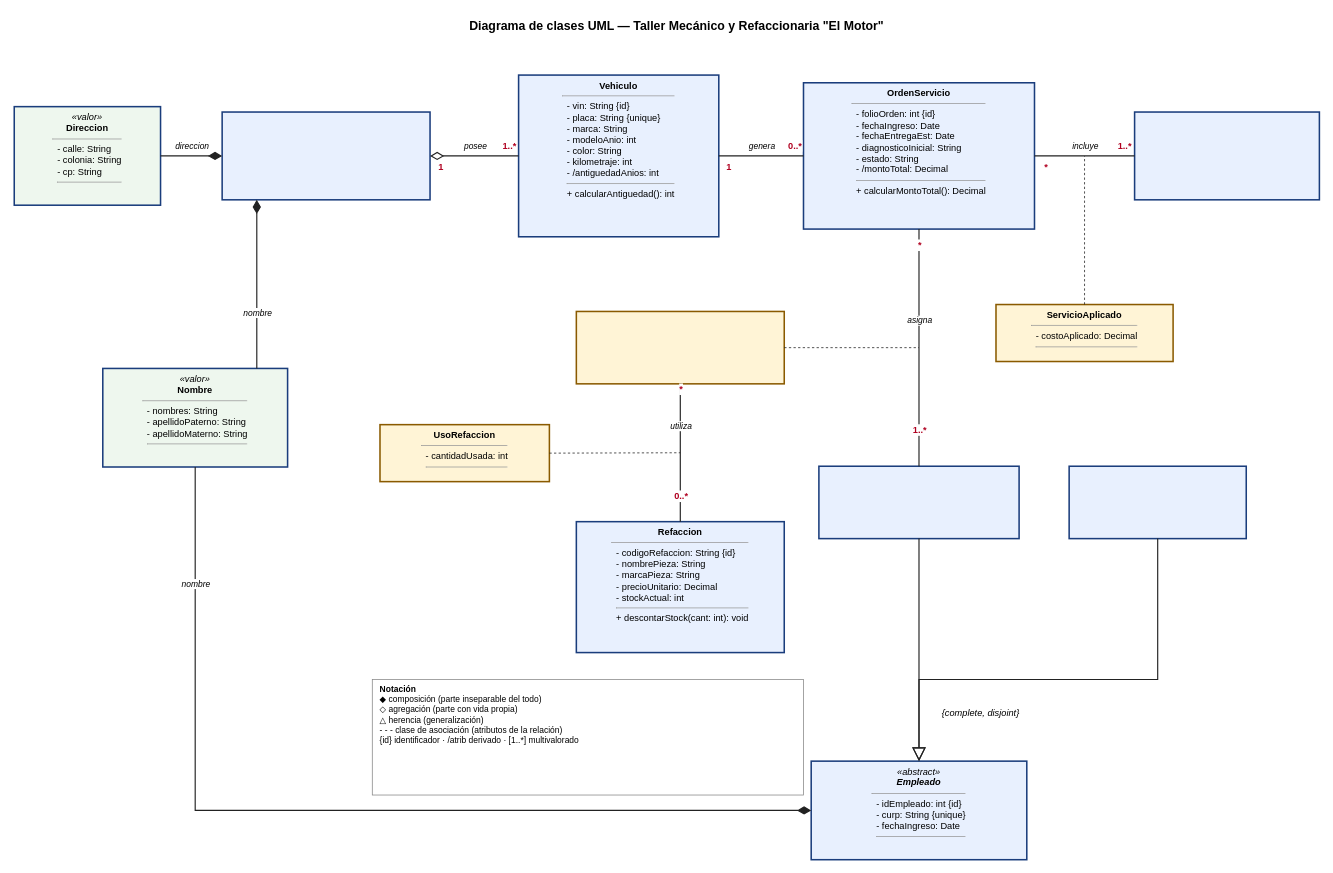
Some shapes in this 1333 by 873 pixel diagram are drawn without their labels. Here are the shapes that lost their labels. From the top down, the centre of each, then its label:
[325,155]: Cliente - idCliente: int {id} - telefonos: String [1..*] - correo: String
[1226,155]: Servicio - idServicio: int {id} - nombreServicio: String - precioBase: Decimal
[680,347]: AsignacionTrabajo - horasTrabajadas: Decimal - fechaAsignacion: Date
[918,502]: Mecanico - especialidad: String - tarifaHora: Decimal
[1157,502]: Recepcionista - turno: String - moduloAtencion: String
